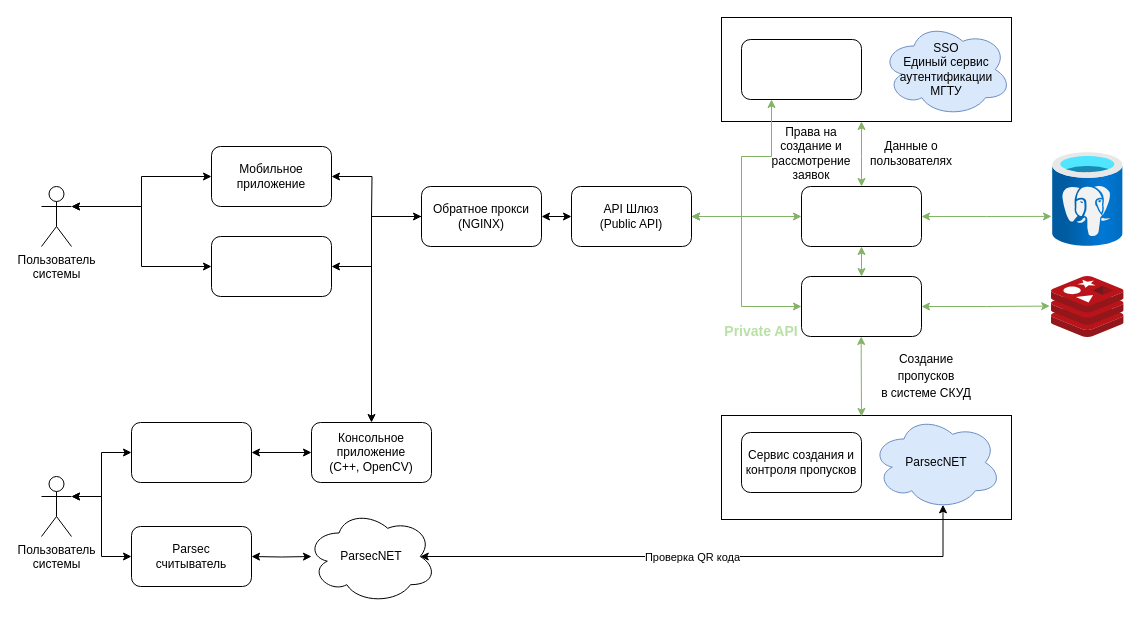
Image size: 1141x621. Some labels were removed from this diagram. The centre of each missing label's shape, as x and y in pixels:
"Веб-клиент" goes at point (271, 266).
"Микросервис заявок" goes at point (861, 216).
"Микросервис Пропусков" goes at point (861, 306).
"Микросеривис Пользователей" goes at point (801, 69).
"Считыватель с веб-камерой" goes at point (191, 452).
